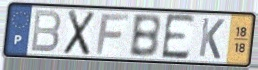B: (127, 13, 163, 59), (29, 9, 63, 54)
E: (159, 12, 197, 62)
F: (94, 13, 131, 56)
K: (197, 16, 226, 61)
X: (62, 8, 97, 58)
